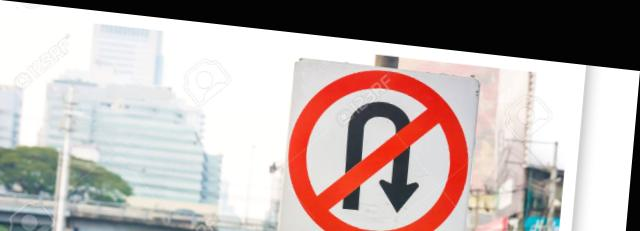not_u_turn_right: (278, 44, 480, 231)
